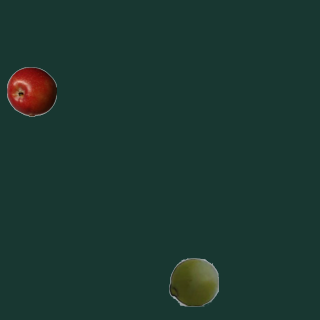Apple Braeburn: (6, 66, 56, 116)
Grape White 4: (168, 256, 218, 306)
